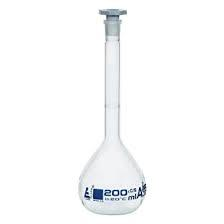Volumetric flask: (47, 12, 168, 215)
